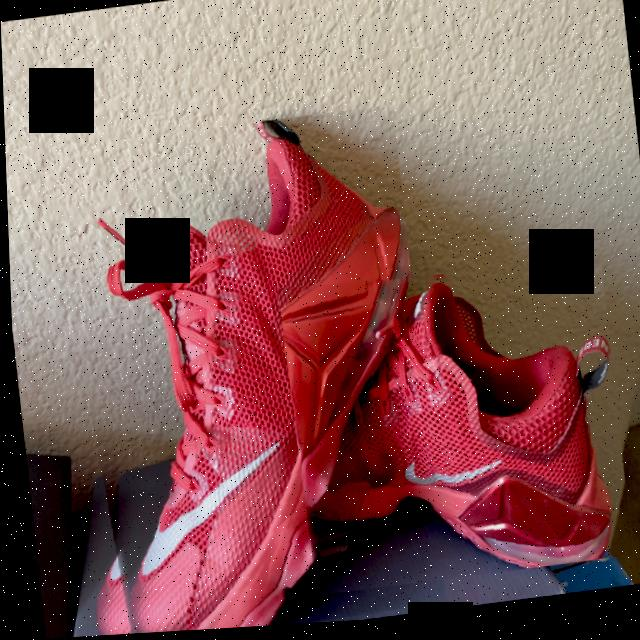shoe: (40, 107, 442, 638), (274, 253, 629, 601)
